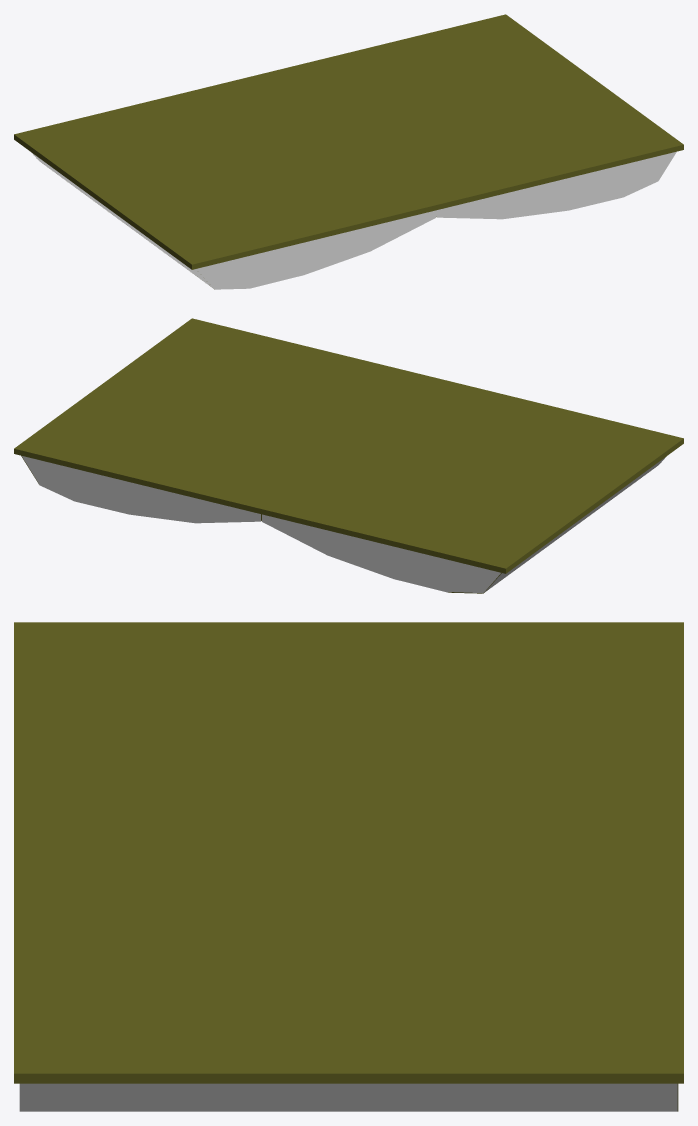
The model's file is bukubuka.glb.
3 renders of one model, top to bottom at view 1: azimuth 30°, elevation 25°; view 2: azimuth 150°, elevation 25°; view 3: azimuth 270°, elevation 25°, orthographic. The views are drawn at different scales.
Parts seen in each view (by area): view 1: book; view 2: book; view 3: book.
Part boxes in pixels (bbox=[...]): book: bbox=[14, 14, 683, 289]; book: bbox=[14, 318, 683, 593]; book: bbox=[14, 622, 683, 1111].
Size of the model in its own units: 0.3753 by 0.0288 by 0.2353.
